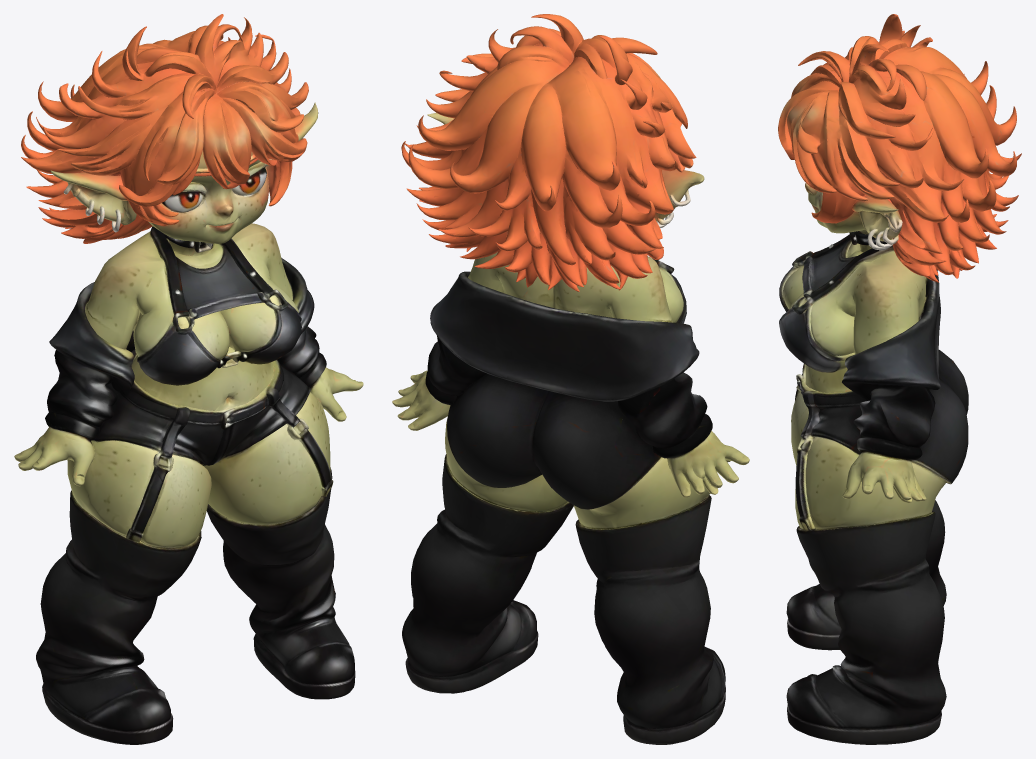
The model's file is oficina-3d-ferrugem.glb.
The picture shows the model from 3 angles, left to right: view 1: azimuth 30°, elevation 25°; view 2: azimuth 150°, elevation 25°; view 3: azimuth 270°, elevation 25°; orthographic projection. The views are drawn at different scales.
Parts seen in each view (by area): view 1: model; view 2: model; view 3: model.
Boxes of the visible parts, x1=… form: model: x1=14, y1=14, x2=363, y2=744; model: x1=392, y1=14, x2=749, y2=744; model: x1=778, y1=14, x2=1021, y2=744.
Size of the model in its own units: 0.9919 by 1.9 by 0.6506.
1 material, 1 textured.
